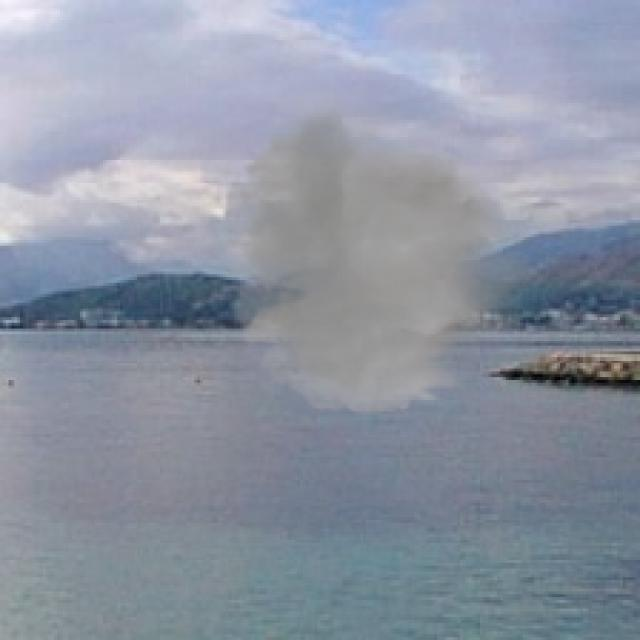Smoke: (200, 77, 549, 423)
